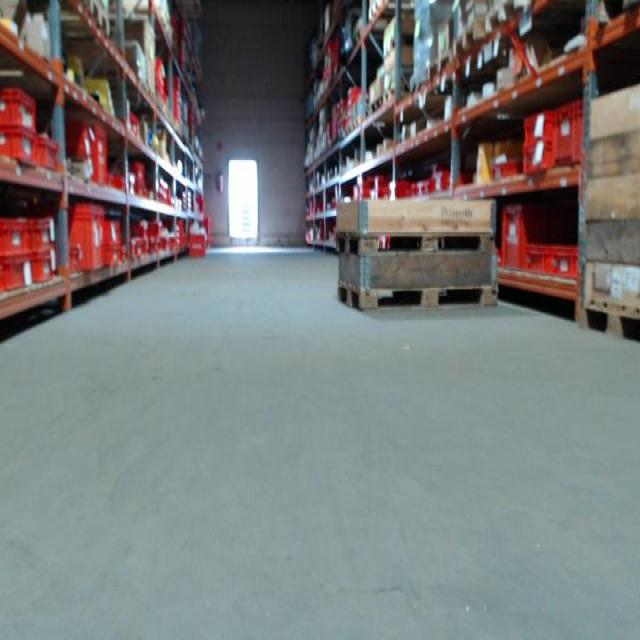pallet: (337, 280, 497, 311), (333, 230, 496, 256), (579, 297, 640, 344), (485, 0, 527, 34), (454, 14, 485, 58), (87, 0, 111, 37), (429, 50, 452, 78), (370, 96, 382, 115), (383, 86, 396, 103)
small_load_carrier: (500, 208, 548, 270), (69, 206, 107, 276), (556, 97, 588, 169), (0, 85, 42, 137), (3, 128, 40, 170), (547, 238, 580, 283), (85, 128, 110, 186), (30, 213, 62, 254), (521, 140, 558, 173), (32, 248, 62, 288), (520, 111, 559, 141), (522, 241, 554, 277), (2, 216, 30, 256), (1, 257, 33, 289), (39, 140, 63, 180), (75, 122, 94, 160), (100, 247, 125, 272), (103, 215, 126, 242), (429, 165, 447, 187)
